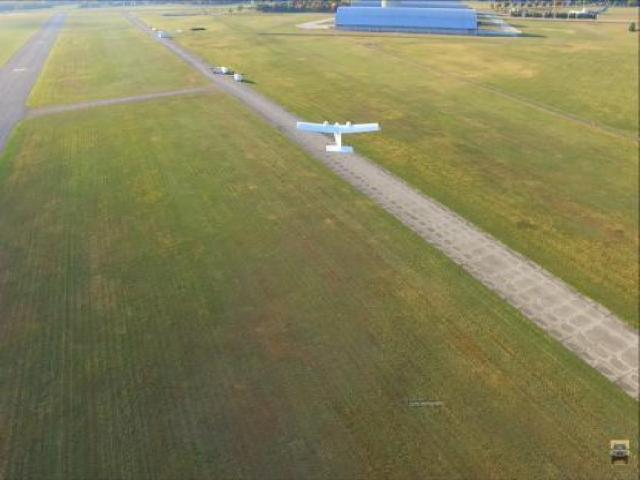uav: (295, 115, 380, 154)
